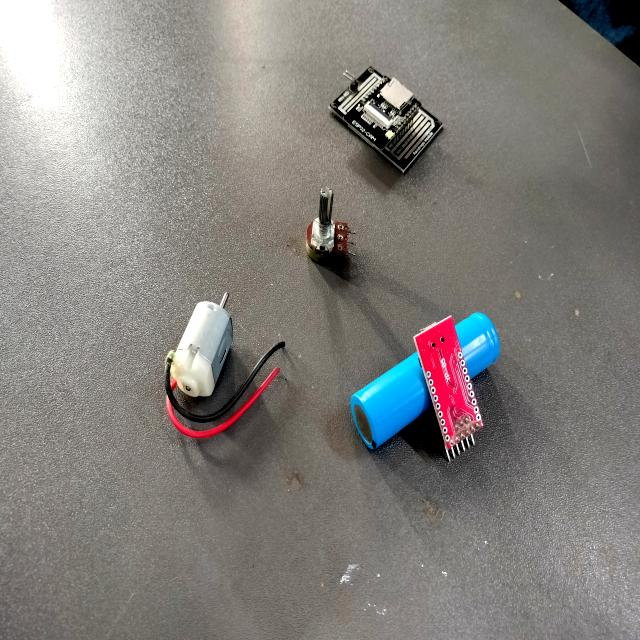3-3-Volt-Battery: (346, 308, 506, 458)
DC-Motor: (168, 275, 242, 404)
ESP32-CAM: (344, 72, 424, 151)
FT-232-USB-Serial-Module: (412, 309, 488, 466)
Raindrops-Module: (328, 58, 449, 178)
Taper-Potentiometer: (303, 181, 366, 273)
